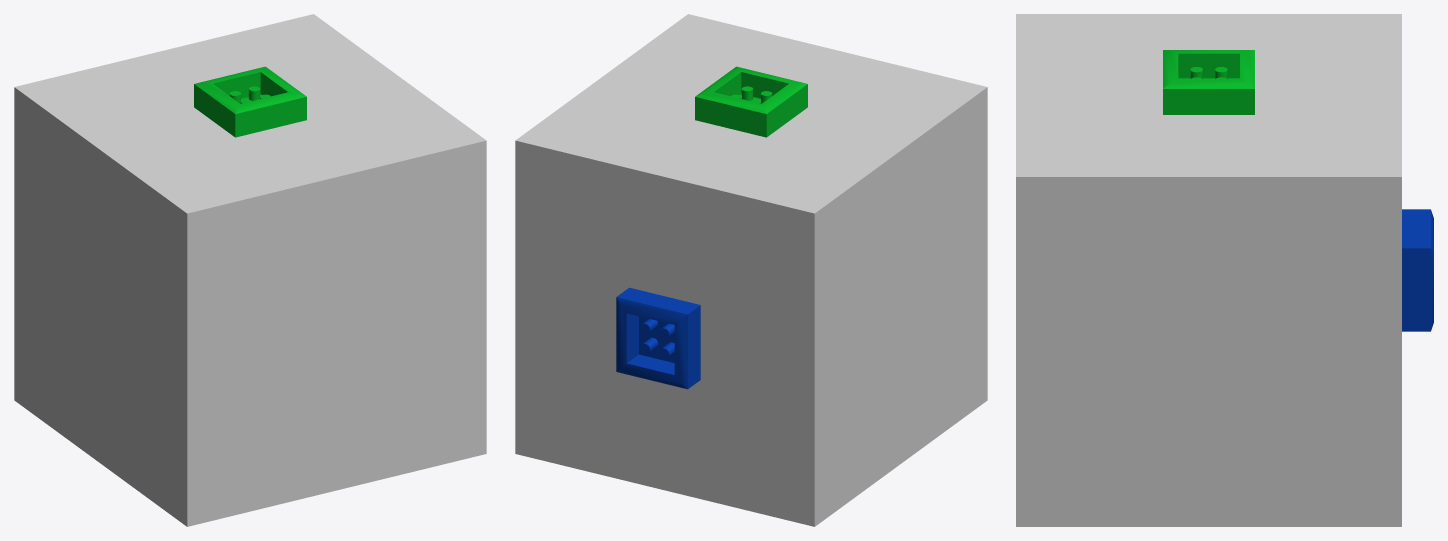
Rendered from InfiniteData.gltf.
3 renders of one model, left to right at view 1: azimuth 30°, elevation 25°; view 2: azimuth 150°, elevation 25°; view 3: azimuth 270°, elevation 25°, orthographic. The views are drawn at different scales.
Visible parts, largest first — view 1: Cube; view 2: Cube; view 3: Cube.
Boxes of the visible parts, box(x1,y1,x2,y2) form: Cube: box(14, 14, 486, 526); Cube: box(515, 14, 987, 526); Cube: box(1016, 14, 1433, 526).
Bounding box in the file's own units: 0.25 × 0.2706 × 0.2706.
